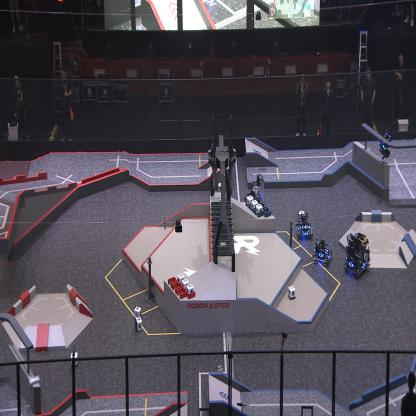car: (343, 232, 370, 276), (244, 172, 264, 211), (312, 237, 333, 267), (294, 209, 314, 240)
